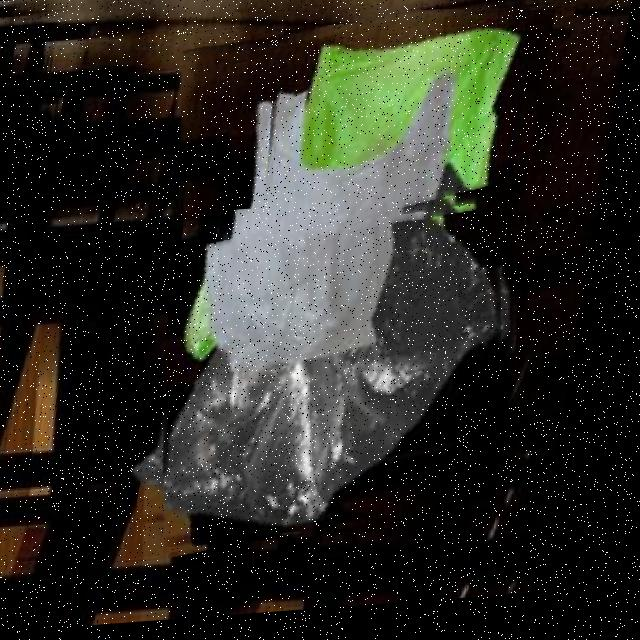litter: (135, 0, 580, 554), (150, 194, 553, 547), (199, 41, 486, 414), (256, 16, 557, 242)
